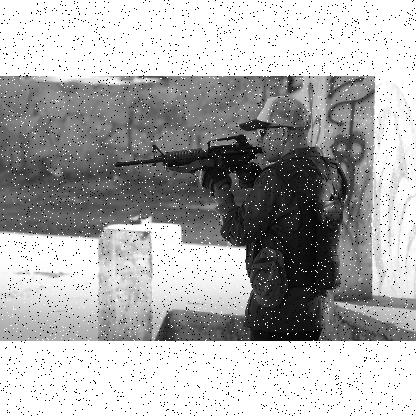gun: (113, 132, 262, 172)
